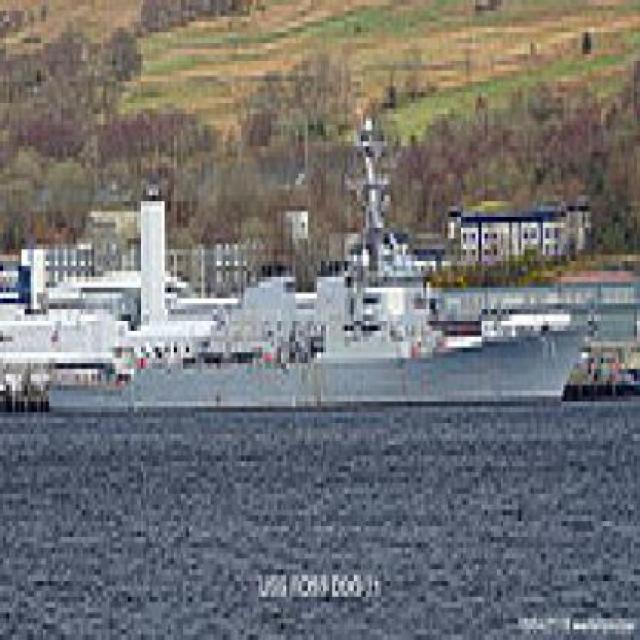warship2: (47, 131, 601, 446)
